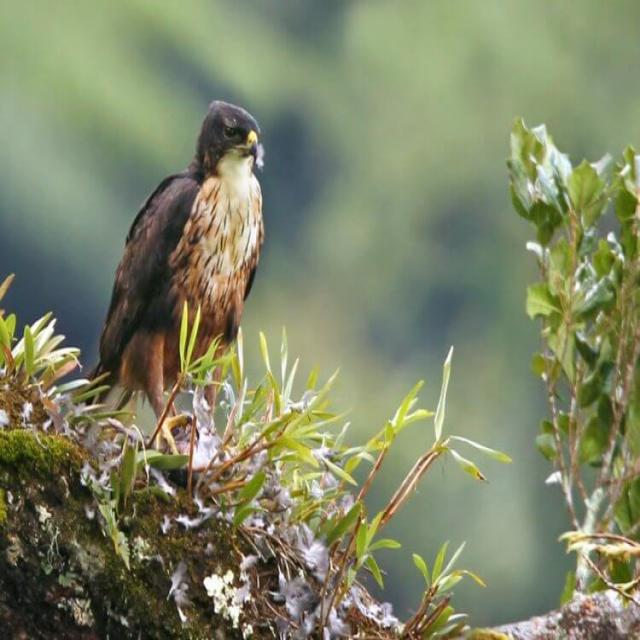Elang Jawa: (70, 72, 295, 511)
